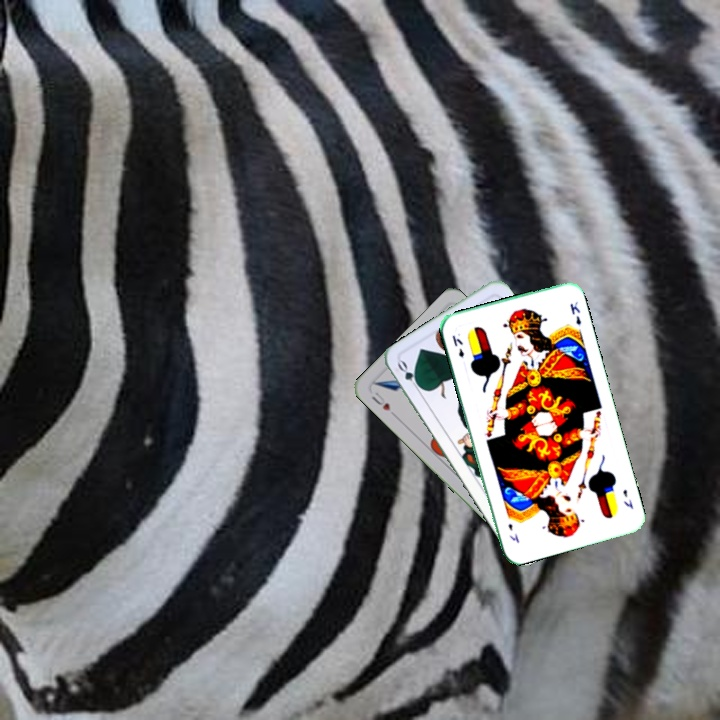EK: (448, 331, 467, 360), (619, 485, 636, 512)
GO: (393, 356, 425, 394)
HU: (367, 388, 398, 419)
